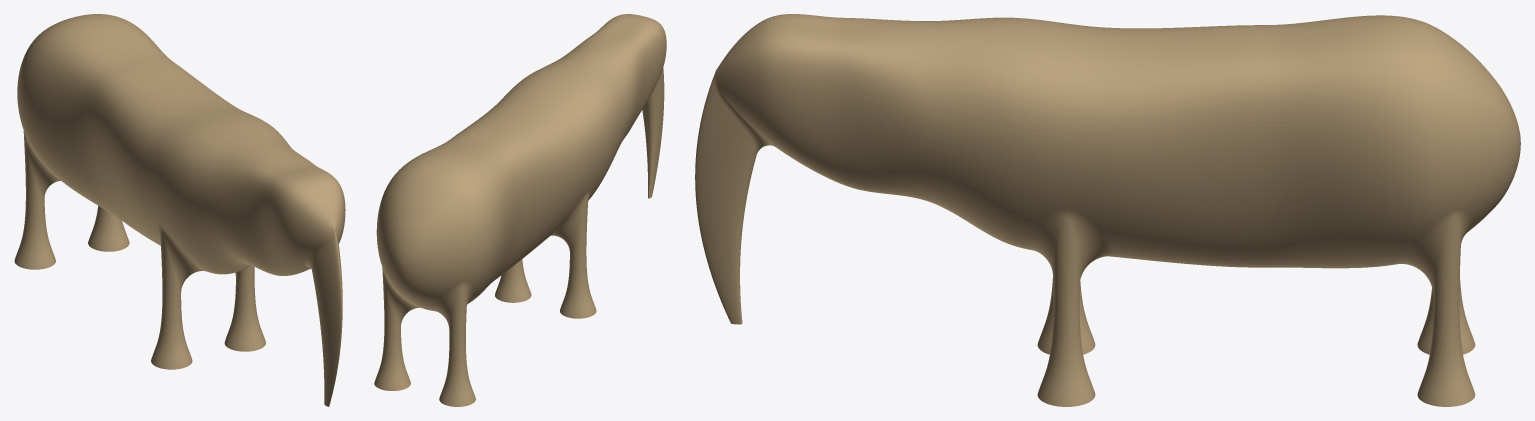
Rendered from LuHar.glb.
3 renders of one model, left to right at view 1: azimuth 30°, elevation 25°; view 2: azimuth 150°, elevation 25°; view 3: azimuth 270°, elevation 25°, orthographic. The views are drawn at different scales.
Parts seen in each view (by area): view 1: Lu'har.stl; view 2: Lu'har.stl; view 3: Lu'har.stl.
Part boxes in pixels (x1=…): Lu'har.stl: x1=14, y1=14, x2=345, y2=406; Lu'har.stl: x1=374, y1=14, x2=666, y2=406; Lu'har.stl: x1=695, y1=14, x2=1520, y2=406.
Size of the model in its own units: 5.8 by 11.29 by 24.45.
